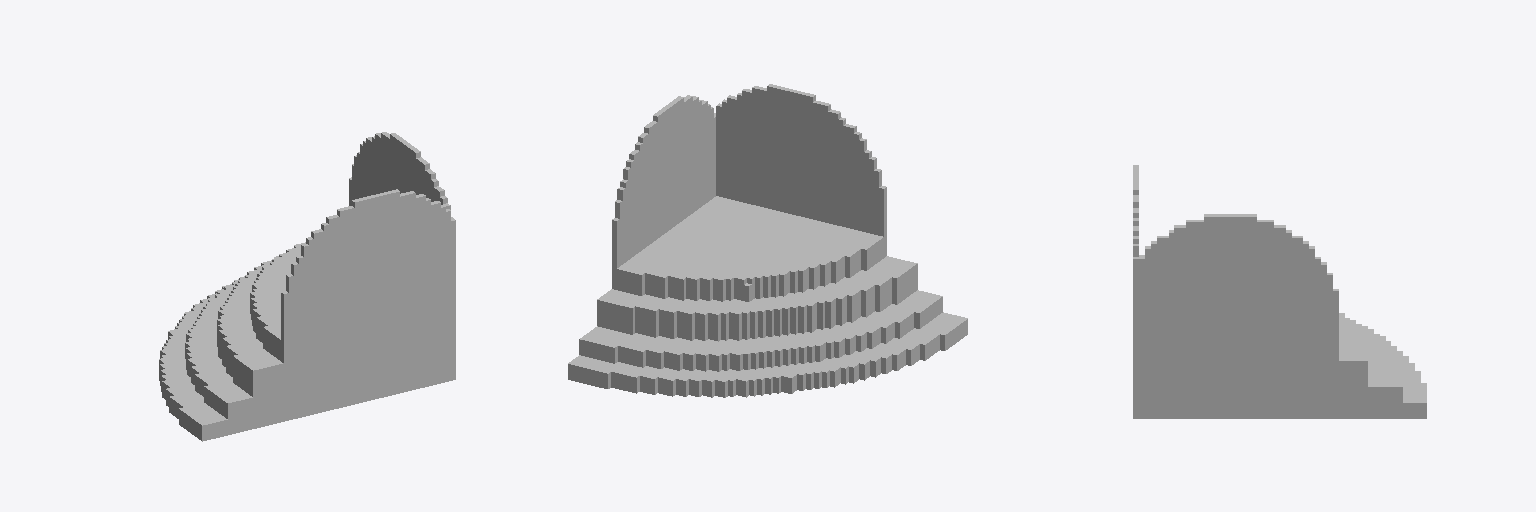
Rendered from 出生地.obj.
The picture shows the model from 3 angles: view 1: azimuth 30°, elevation 25°; view 2: azimuth 150°, elevation 25°; view 3: azimuth 270°, elevation 25°; orthographic projection.
Size of the model in its own units: 50 by 38 by 50.